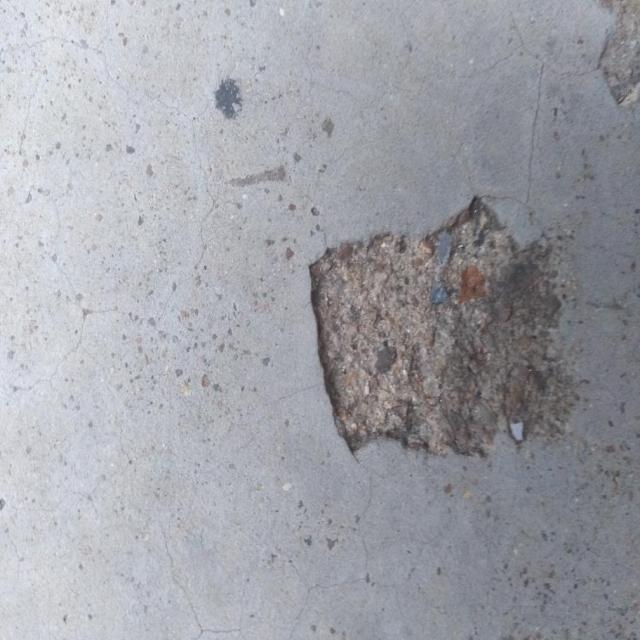concrete spalling: (307, 192, 578, 456), (597, 0, 639, 110)
diagonal crack: (158, 527, 241, 639), (238, 381, 326, 453)
multi-branched crack: (12, 193, 128, 461), (271, 464, 445, 639), (14, 32, 239, 156), (479, 0, 597, 199), (303, 30, 380, 105)
vertical crack: (189, 122, 216, 274)
